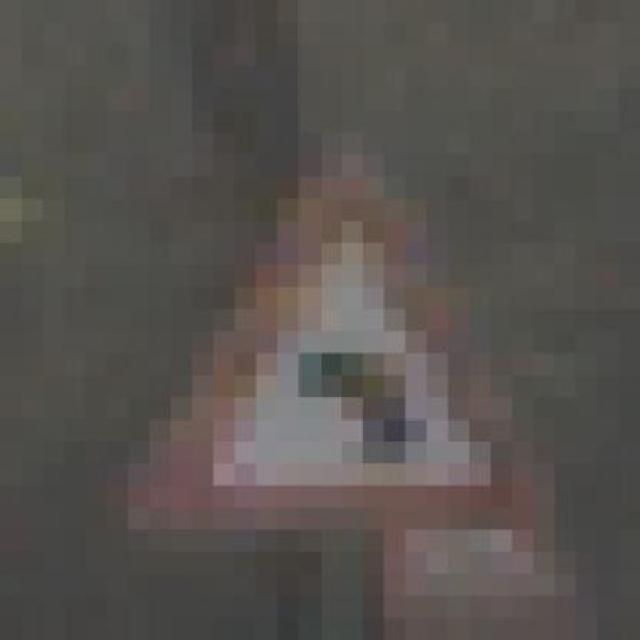Dangerous Left Curve Ahead: (86, 110, 554, 552)
